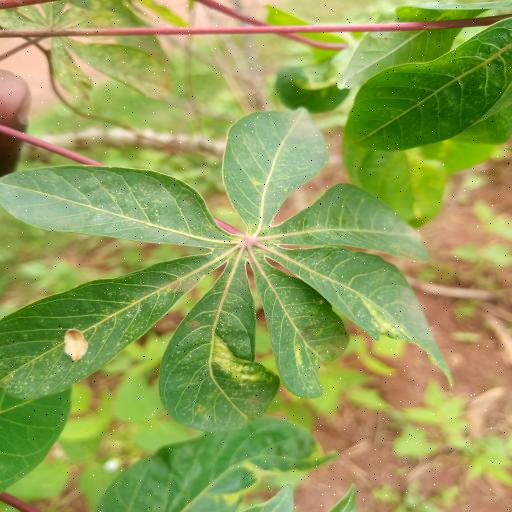Cassava_Mosaic: (0, 107, 462, 429)
